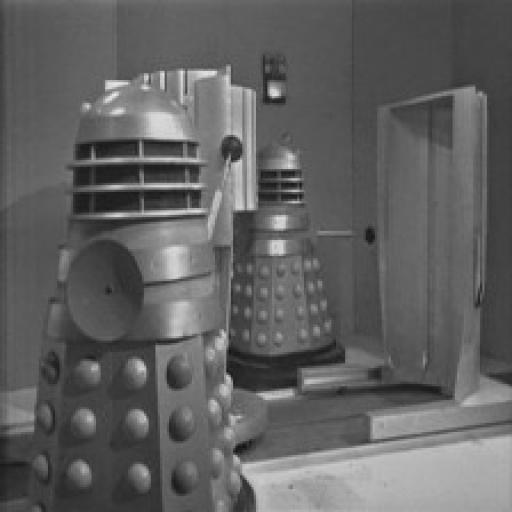dalek: (28, 82, 260, 512), (230, 130, 384, 394)
